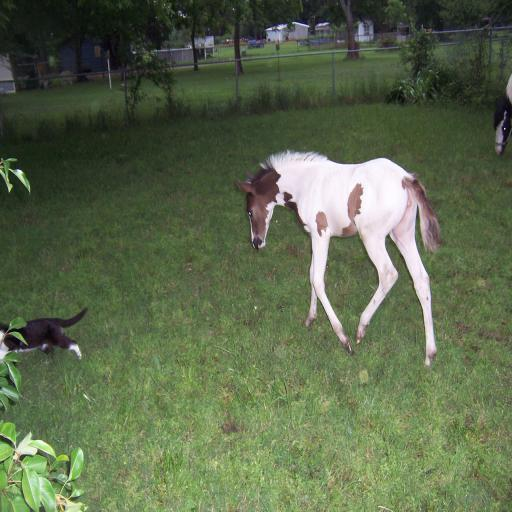Horse: (234, 150, 446, 366)
